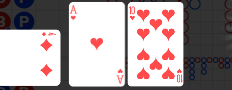10H: (175, 66, 182, 83)
4D: (40, 30, 57, 37)
AH: (115, 66, 124, 84)
